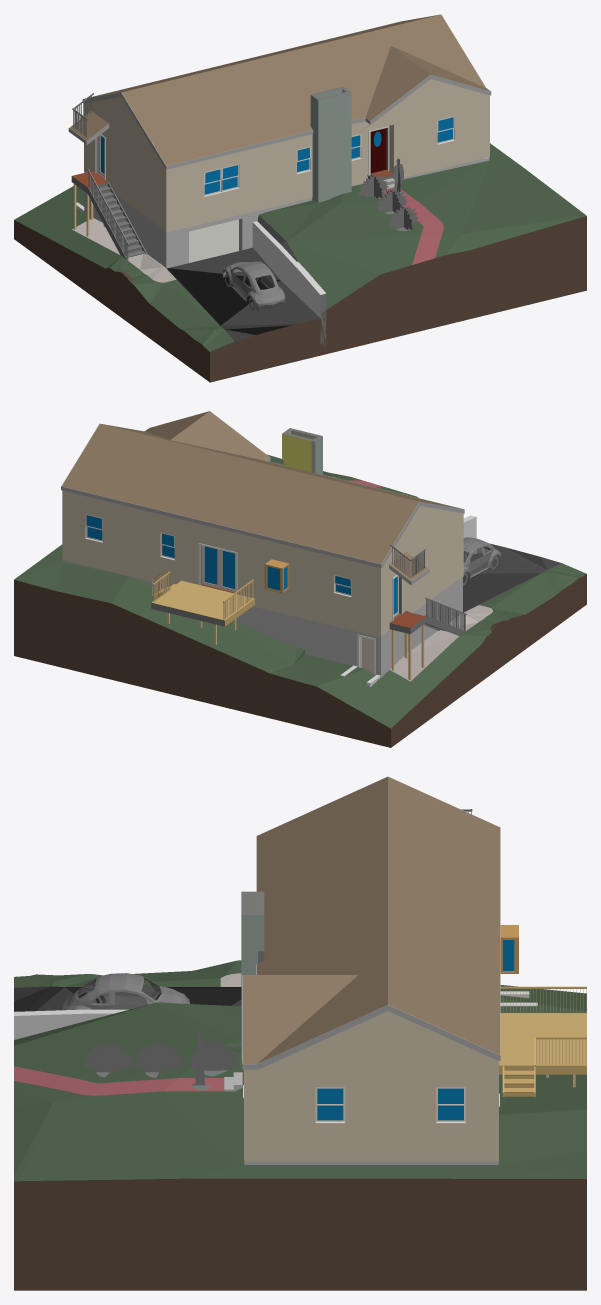
Rendered from Residential_Sample_Project.dae.
3 renders of one model, top to bottom at view 1: azimuth 30°, elevation 25°; view 2: azimuth 150°, elevation 25°; view 3: azimuth 270°, elevation 25°, orthographic. The views are drawn at different scales.
Parts seen in each view (by area): view 1: node (×30); view 2: node (×22); view 3: node (×19).
Part boxes in pixels (bbox=[...]): node (×30): bbox=[14, 14, 586, 382]; node (×22): bbox=[14, 411, 586, 747]; node (×19): bbox=[14, 776, 586, 1290].
Size of the model in its own units: 63.6 by 57.28 by 30.13.
